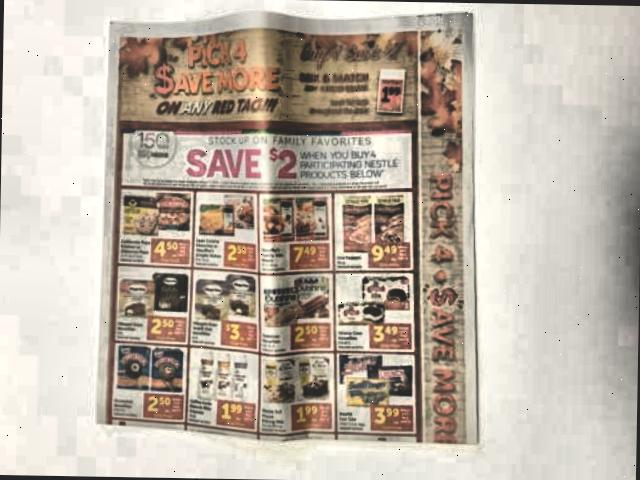Paper: (94, 6, 489, 451)
